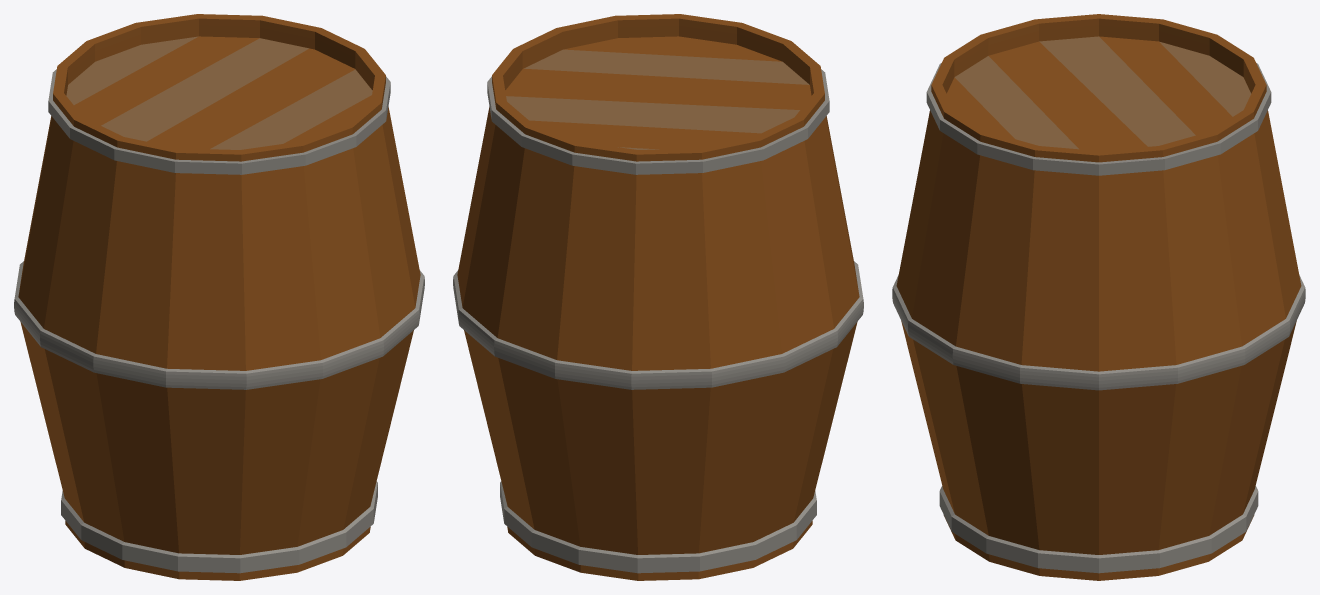
File: Barrel.fbx
The picture shows the model from 3 angles, left to right: view 1: azimuth 30°, elevation 25°; view 2: azimuth 150°, elevation 25°; view 3: azimuth 270°, elevation 25°; orthographic projection.
Parts seen in each view (by area): view 1: Barrel; view 2: Barrel; view 3: Barrel.
Boxes of the visible parts, x1,y1,x2,y2 form: Barrel: (14,14,424,580); Barrel: (453,14,863,580); Barrel: (892,14,1305,580).
Bounding box in the file's own units: 266 × 305 × 266.
